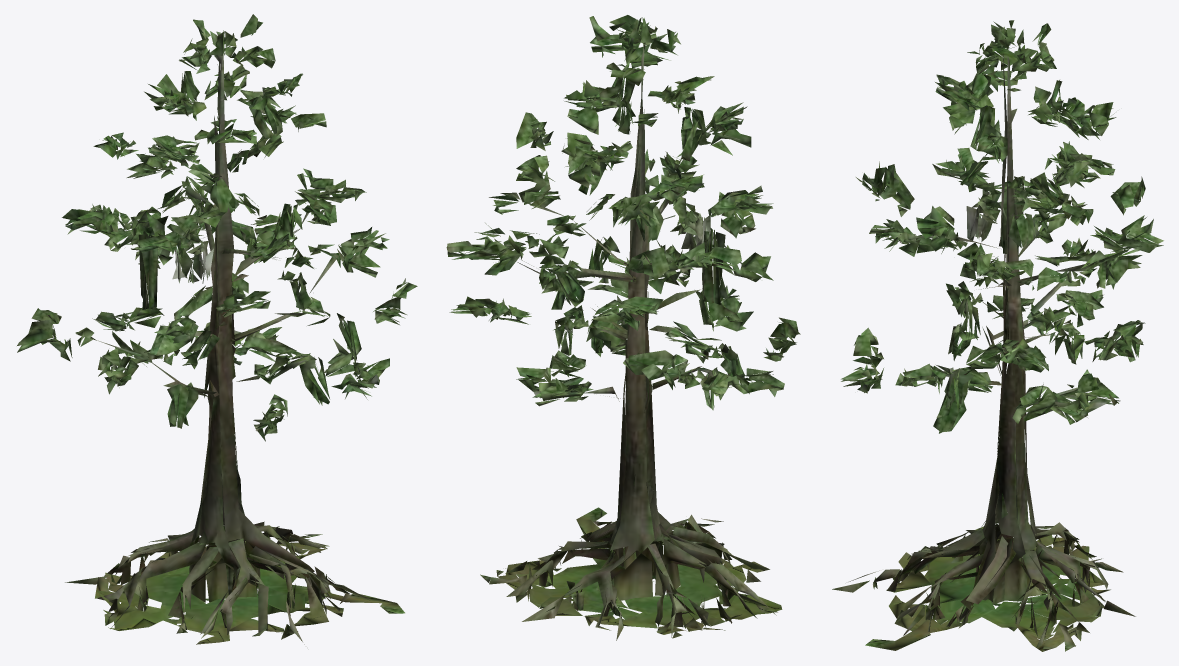
The model's file is cipreste_raizes_broto.glb.
The picture shows the model from 3 angles, left to right: view 1: azimuth 30°, elevation 25°; view 2: azimuth 150°, elevation 25°; view 3: azimuth 270°, elevation 25°; orthographic projection.
Visible parts, largest first — view 1: geometry_0; view 2: geometry_0; view 3: geometry_0.
Part boxes in pixels (x1,y1,x2,y2): geometry_0: (17,14,417,644); geometry_0: (446,15,800,640); geometry_0: (832,20,1163,651).
Size of the model in its own units: 0.6274 by 0.9855 by 0.5187.
Materials: 1 (1 with a texture image).
